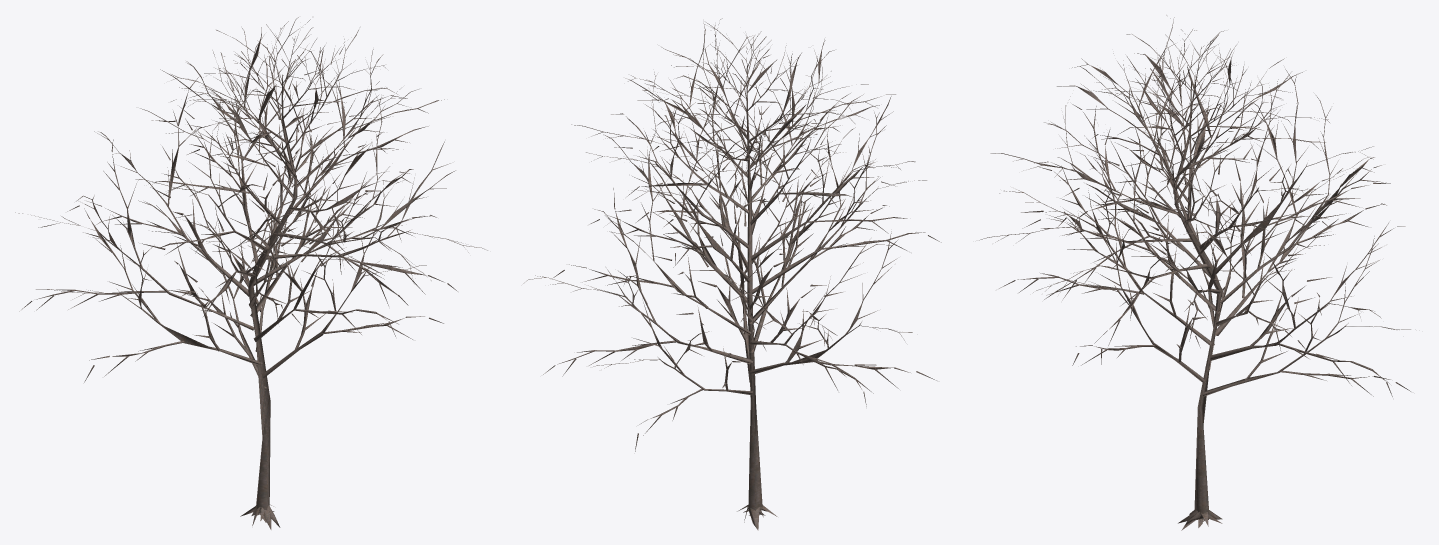
The model's file is tree5.glb.
3 renders of one model, left to right at view 1: azimuth 30°, elevation 25°; view 2: azimuth 150°, elevation 25°; view 3: azimuth 270°, elevation 25°, orthographic. The views are drawn at different scales.
Visible parts, largest first — view 1: Bark01_1; view 2: Bark01_1; view 3: Bark01_1.
Part boxes in pixels (x1,y1,x2,y2): Bark01_1: (15,17,487,529); Bark01_1: (523,18,941,530); Bark01_1: (979,15,1410,530).
Size of the model in its own units: 14.65 by 18.55 by 15.06.
1 material, 1 textured.
